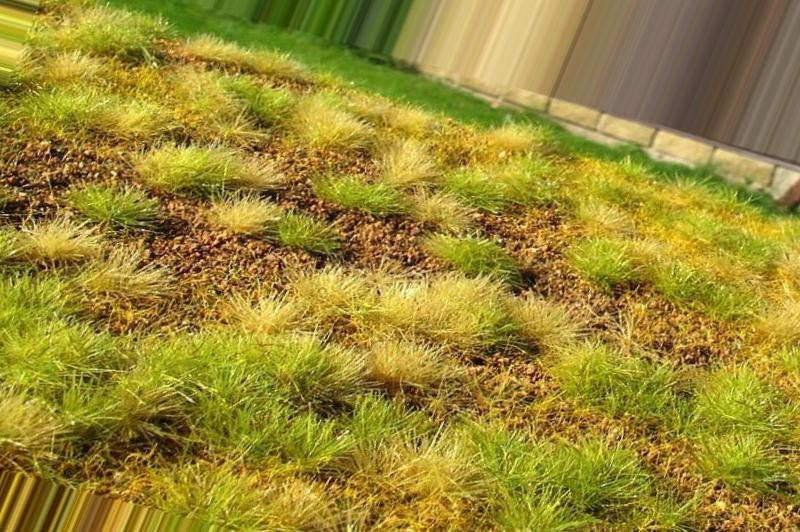patch: (470, 175, 772, 508), (47, 1, 192, 432), (264, 113, 446, 452)
